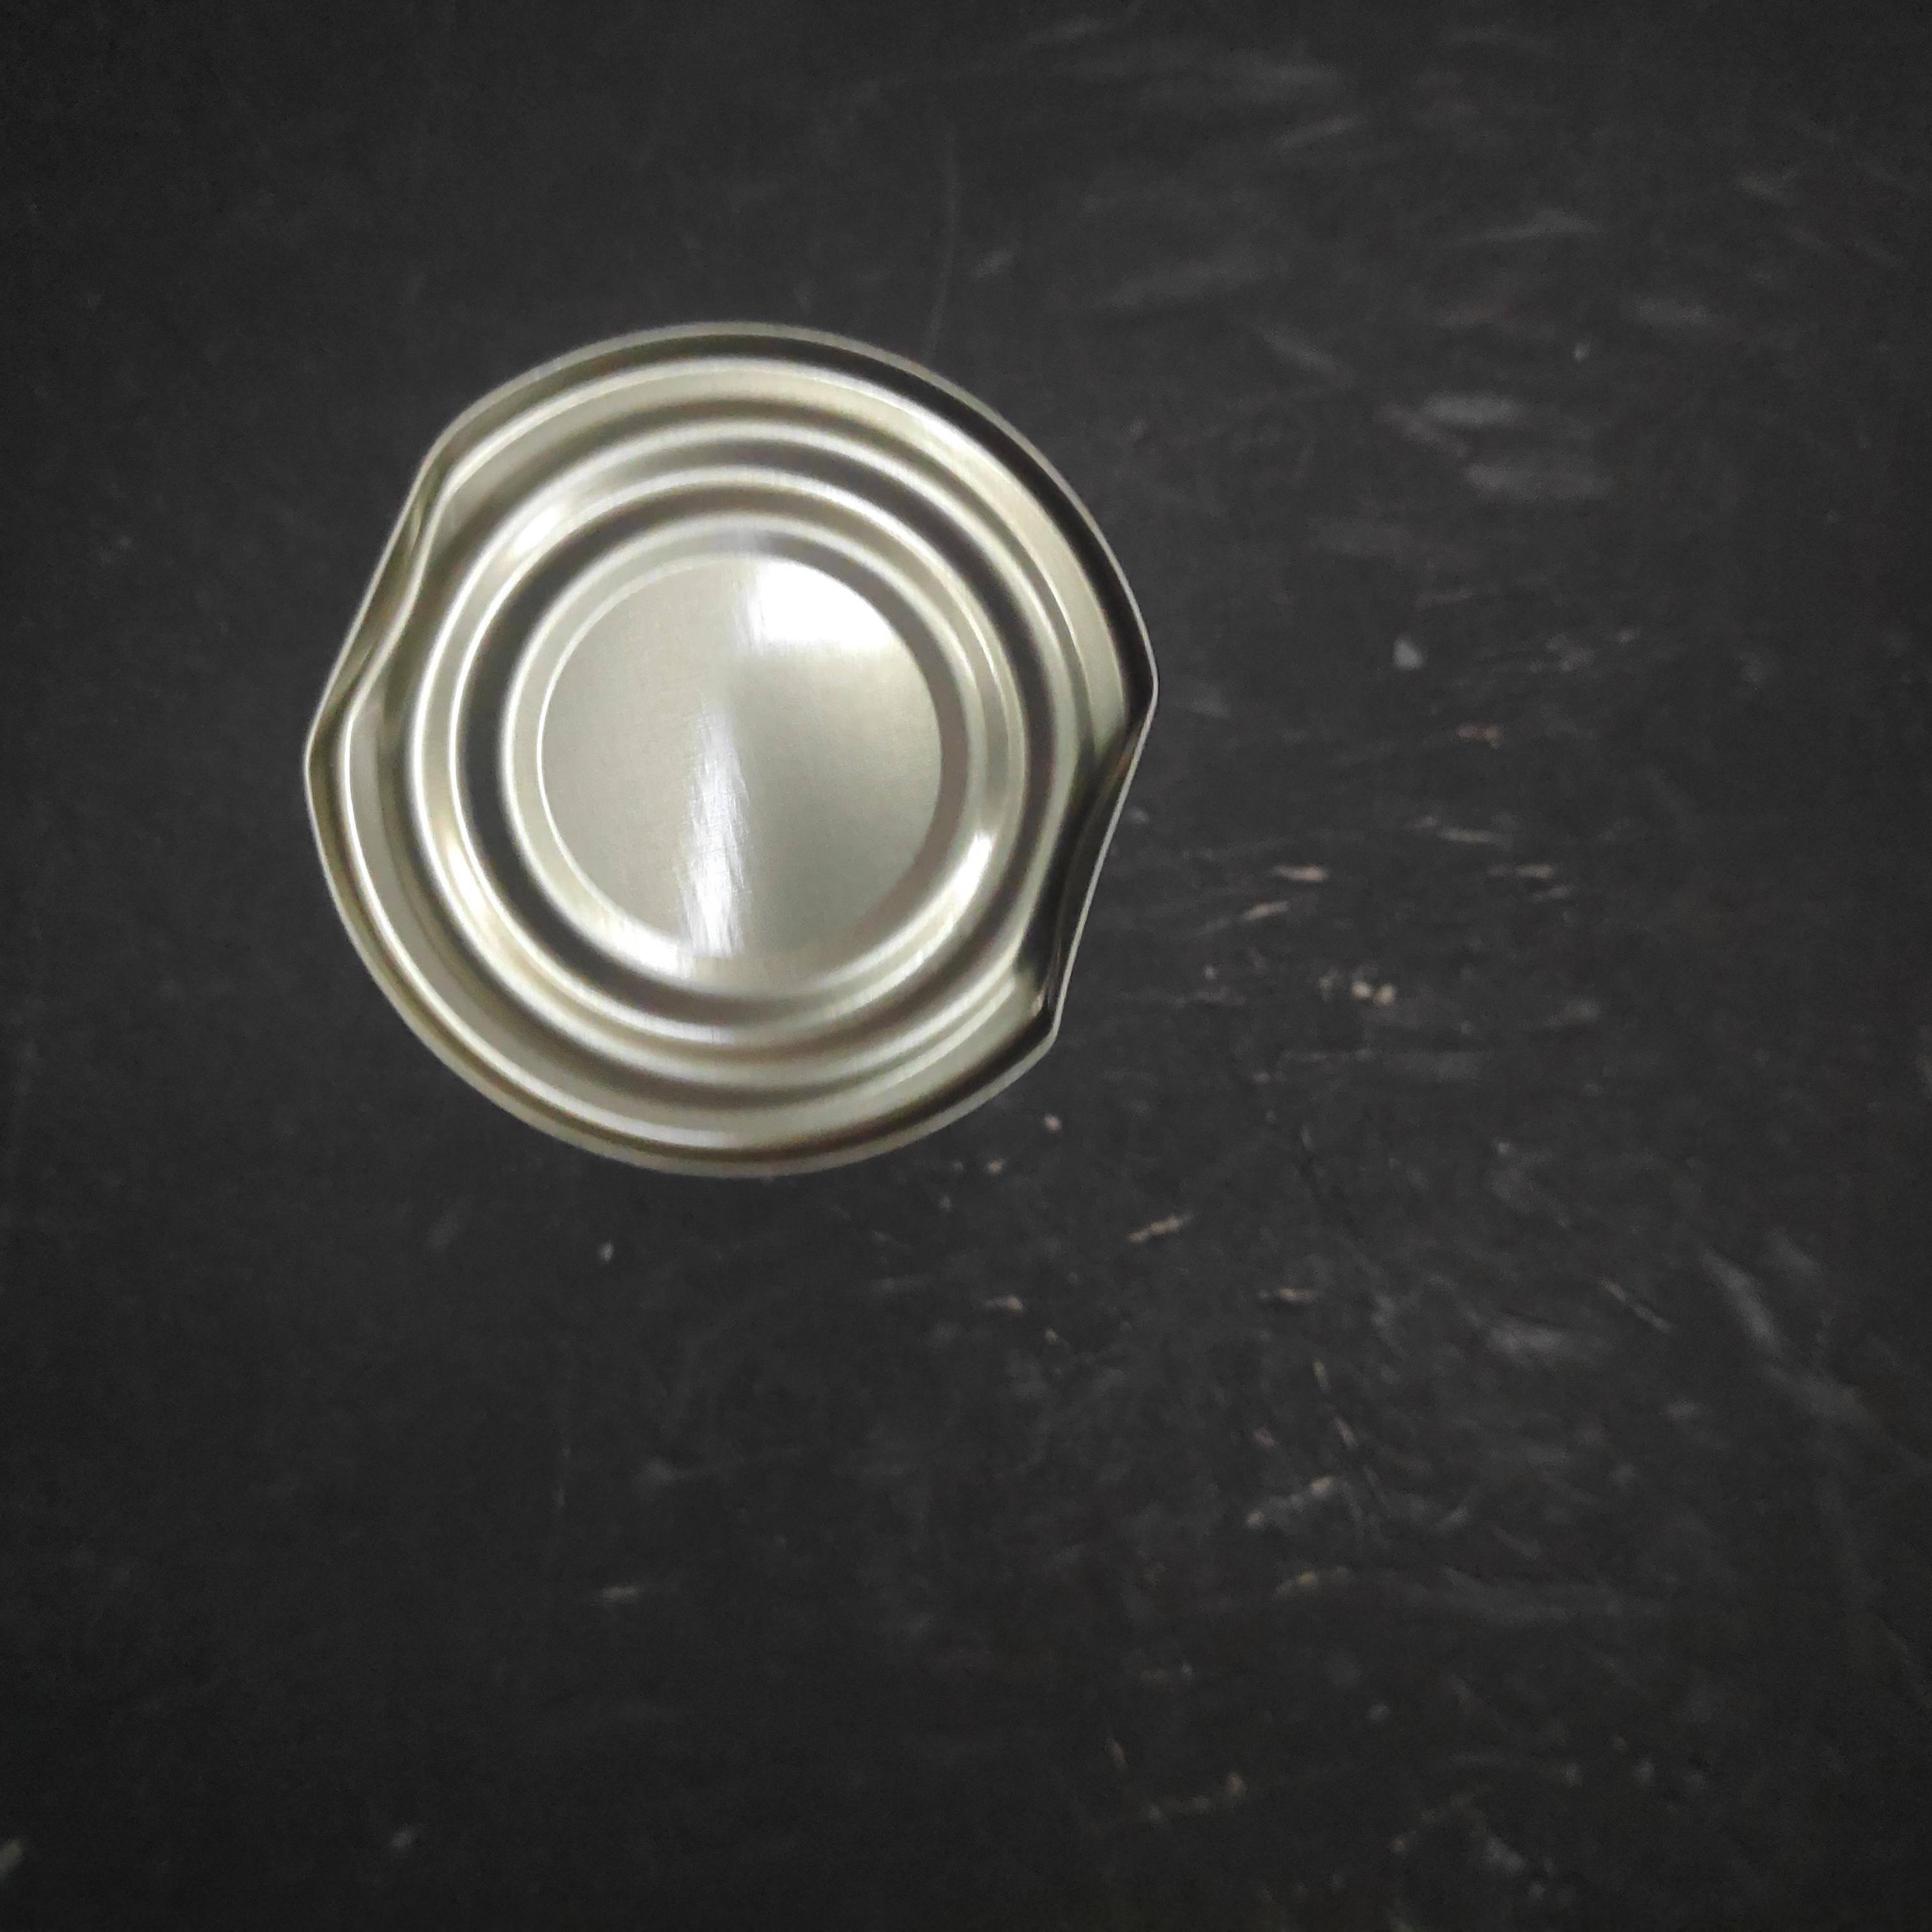Minor Defect: (764, 741, 1635, 1626)
